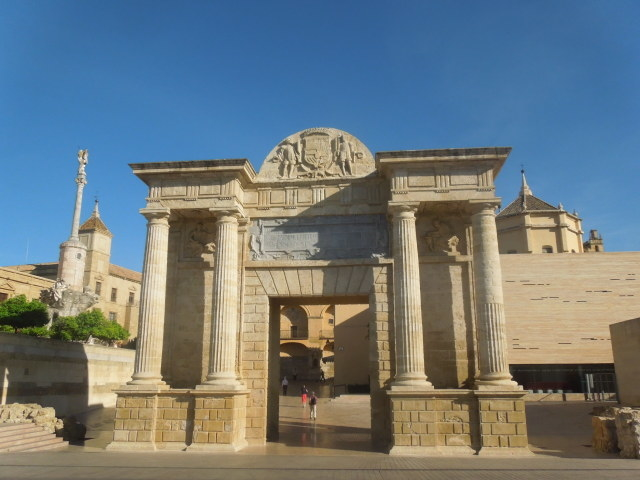vano-adintelado: (249, 283, 392, 445)
